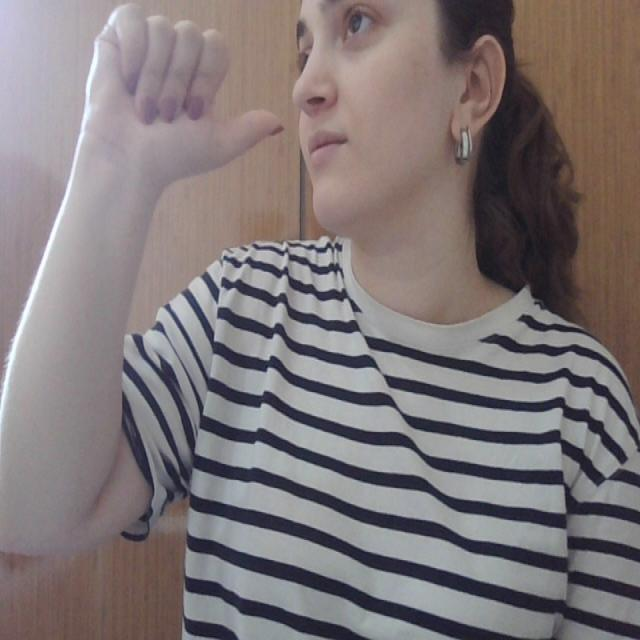icmek: (49, 2, 379, 177)
